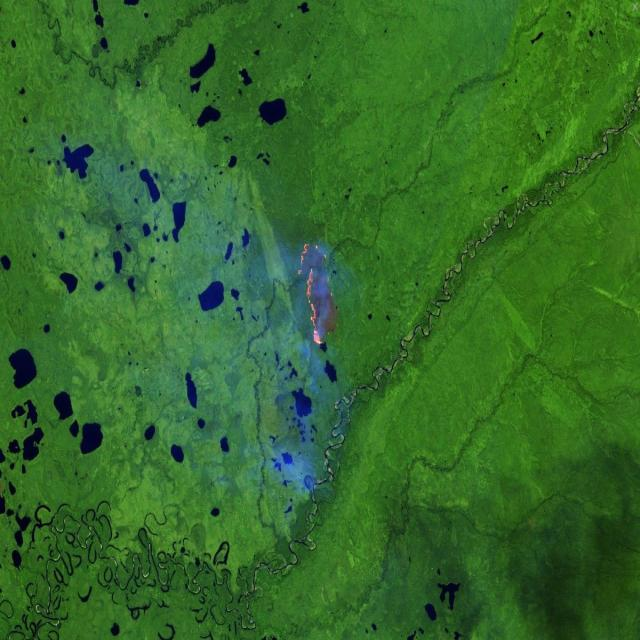fire: (292, 236, 346, 351)
